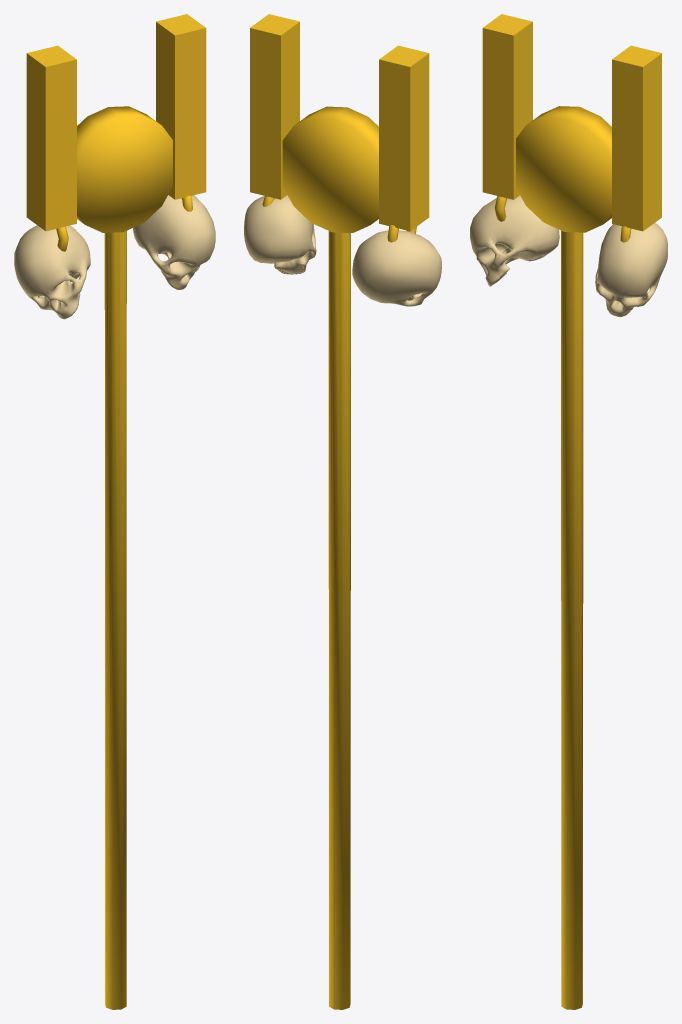
Rendered from Staff.FBX.
3 views of the same model, side by side, from view 1: azimuth 30°, elevation 25°; view 2: azimuth 150°, elevation 25°; view 3: azimuth 330°, elevation 25° (orthographic).
Parts seen in each view (by area): view 1: PM3D_Cylinder3D1; view 2: PM3D_Cylinder3D1; view 3: PM3D_Cylinder3D1.
Part boxes in pixels (x1,y1,x2,y2): PM3D_Cylinder3D1: (14, 14, 215, 1009); PM3D_Cylinder3D1: (244, 14, 441, 1009); PM3D_Cylinder3D1: (470, 14, 667, 1009).
Size of the model in its own units: 65 by 320 by 27.69.
